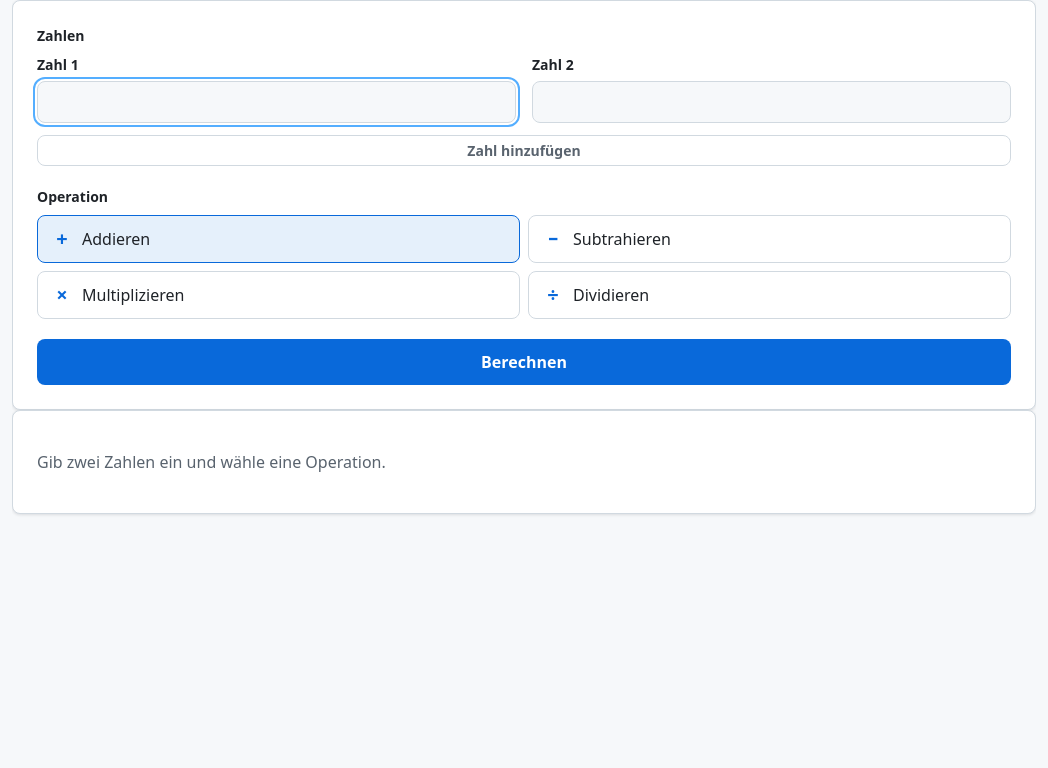
Calculator › records successful calculations in the history, newest first
Expected: the heading "Verlauf" is not shown
In the field labelled "Zahl 1": (276,102) x1=37 y1=81 x2=516 y2=123, type "1"
In the field labelled "Zahl 2": (772,102) x1=532 y1=81 x2=1011 y2=123, type "2"
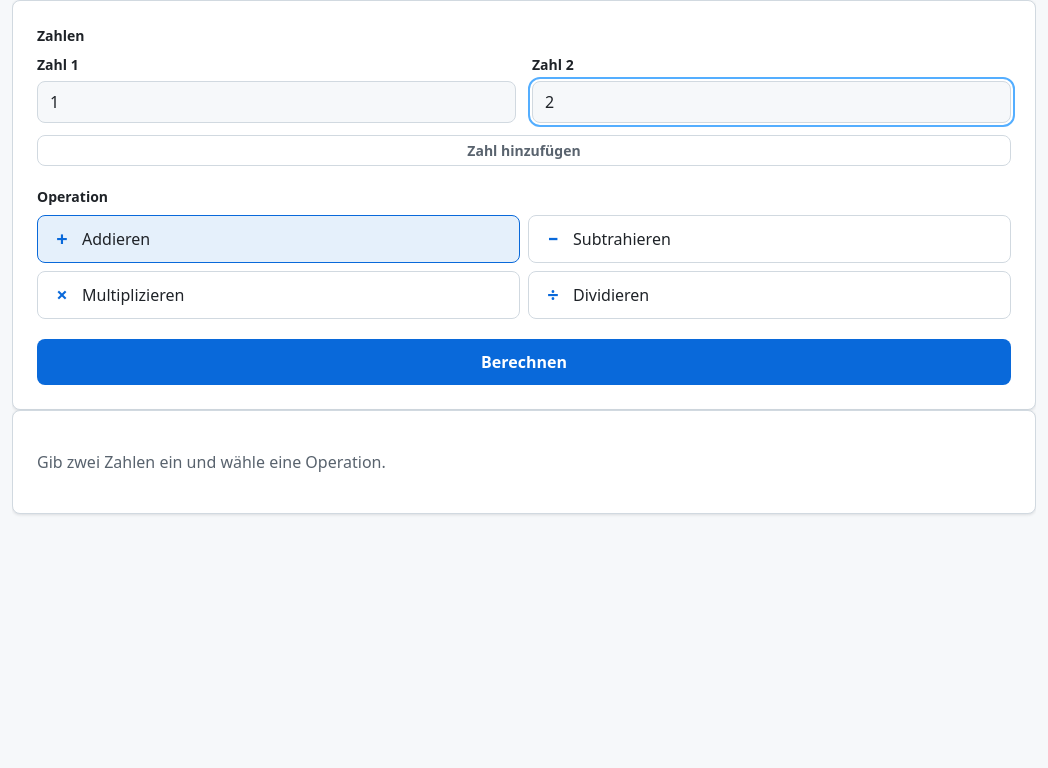
Click the button "Berechnen": (524,362) x1=37 y1=339 x2=1011 y2=385
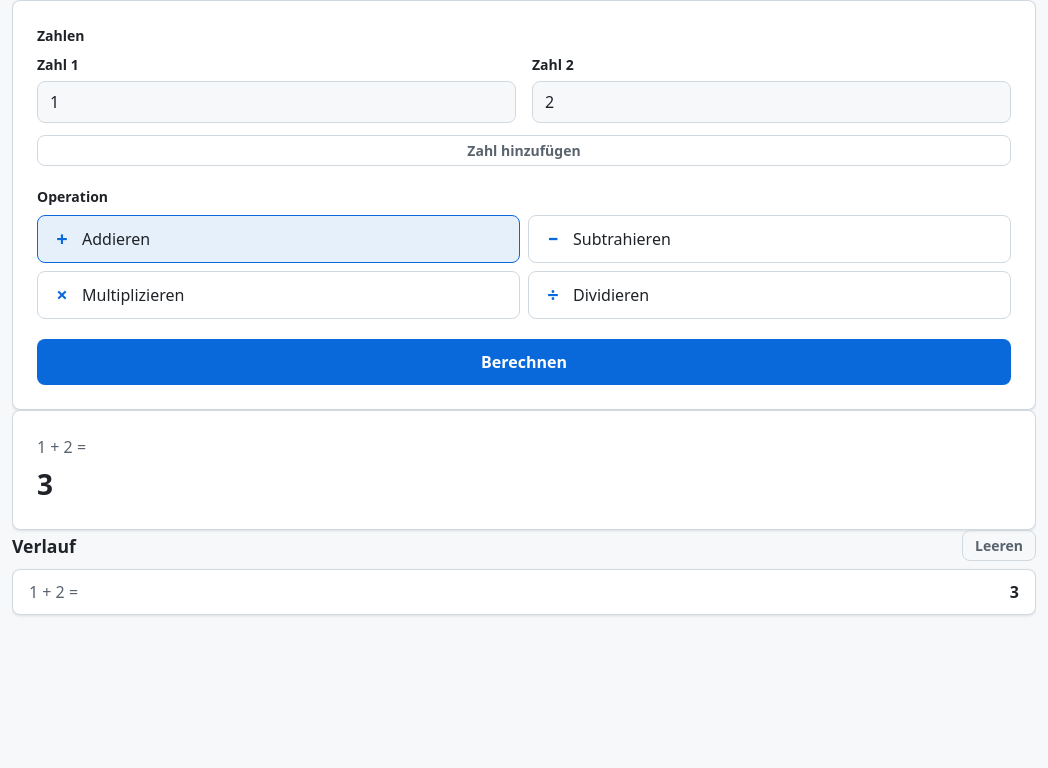
Expected: the text with test id "result-value" is shown, x1=37 y1=465 x2=53 y2=503
Replace the text in the field labelled "Zahl 1" with "10": (276,102) x1=37 y1=81 x2=516 y2=123
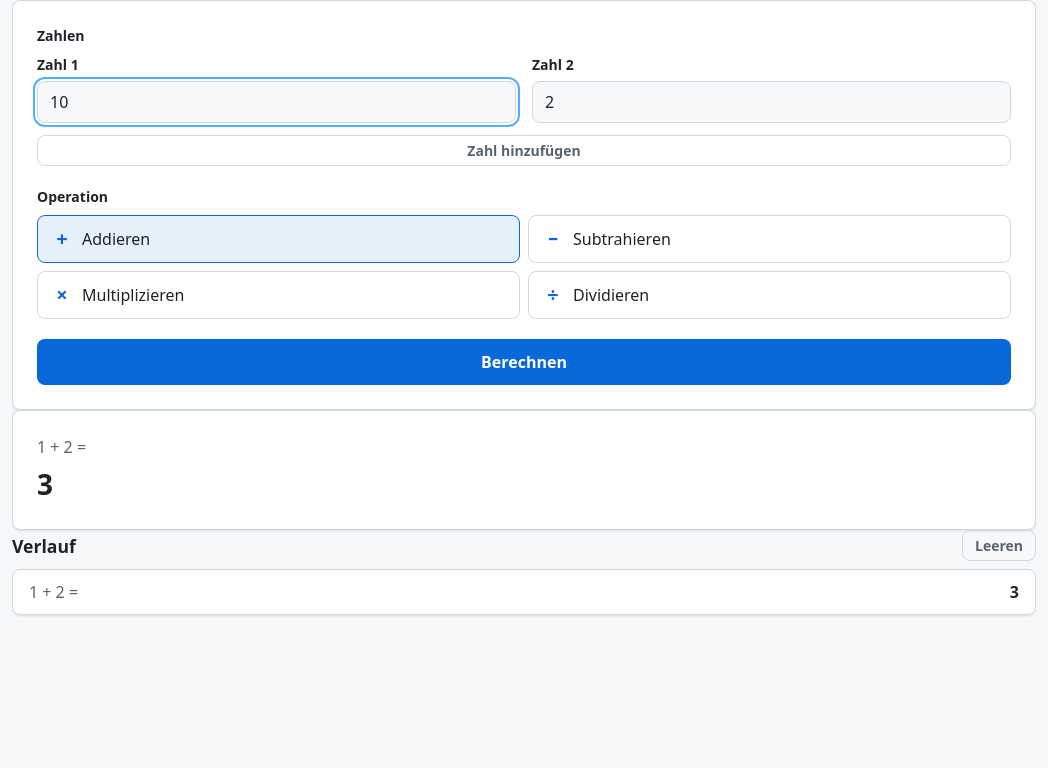
Replace the text in the field labelled "Zahl 2" with "20": (772,102) x1=532 y1=81 x2=1011 y2=123
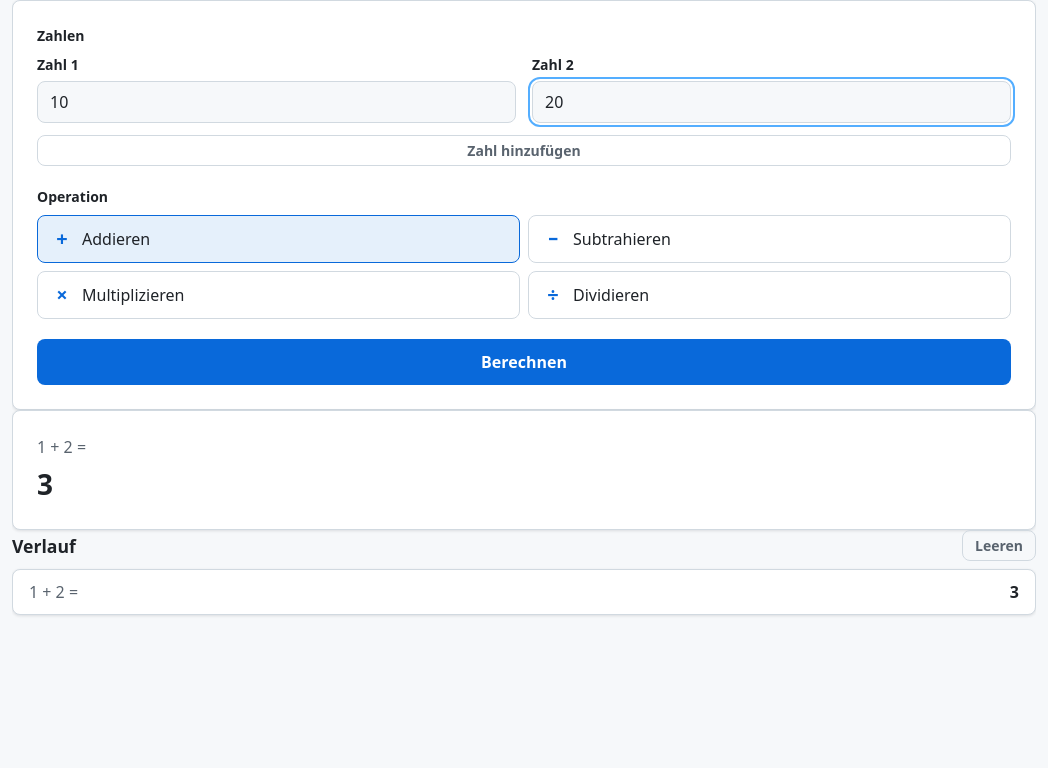
Click the button "Berechnen": (524,362) x1=37 y1=339 x2=1011 y2=385
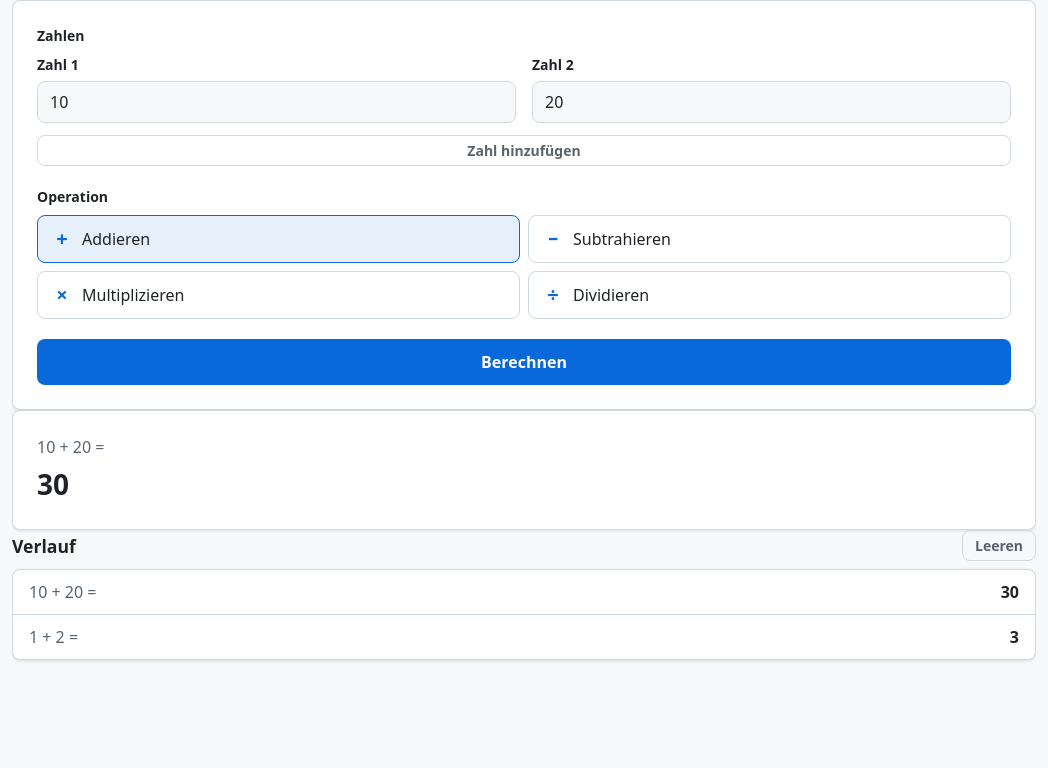
Expected: the text with test id "result-value" reads "30", x1=37 y1=465 x2=69 y2=503
Expected: the list items read "10 + 20 =30", "1 + 2 =3", in this order, x1=29 y1=581 x2=1019 y2=603; x1=13 y1=614 x2=1035 y2=659
Click the button "Leeren": (999,546) x1=962 y1=530 x2=1036 y2=561
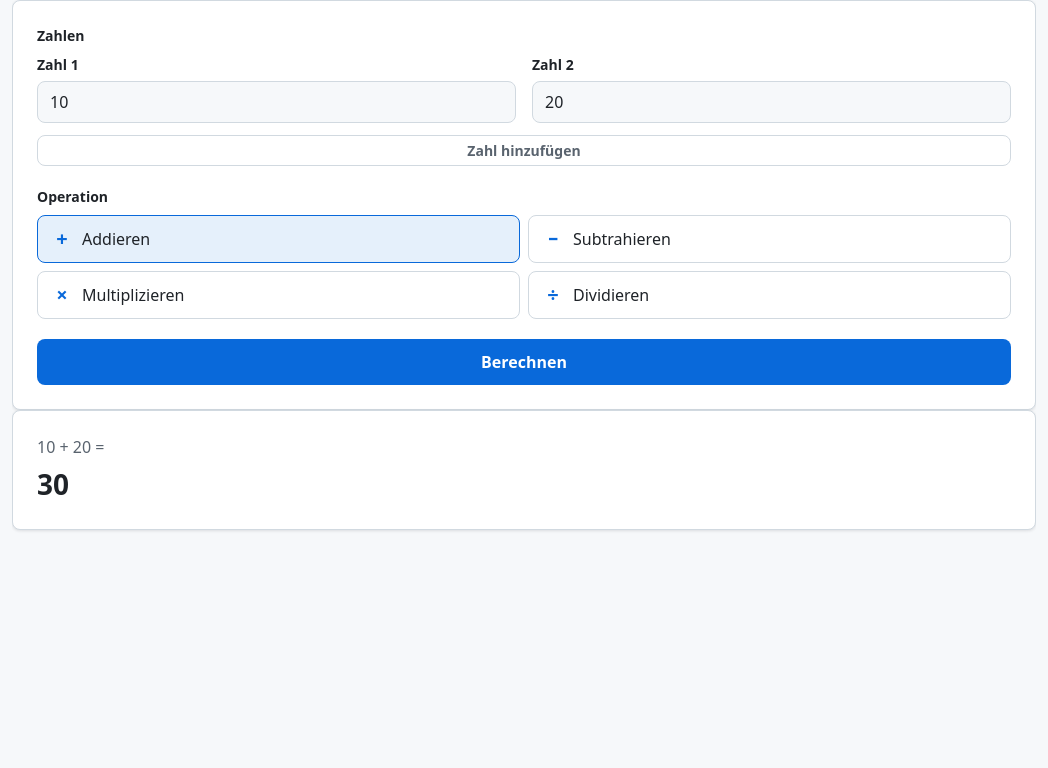
Expected: the heading "Verlauf" is gone
